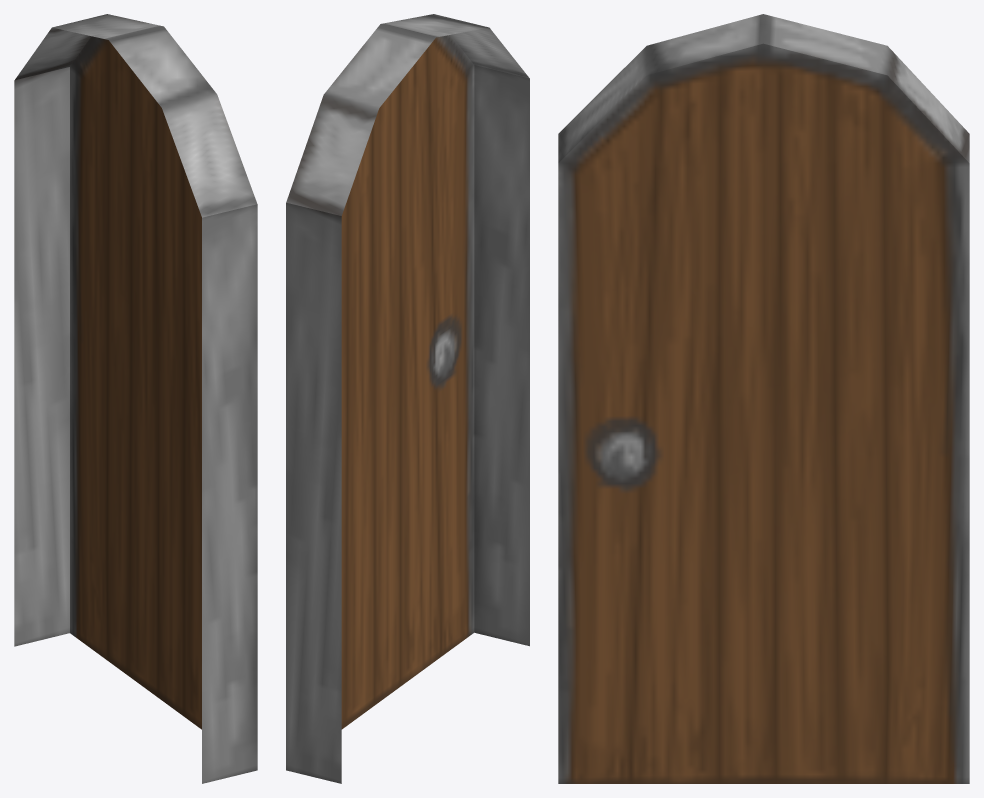
The model's file is Gate.fbx.
3 views of the same model, side by side, from view 1: azimuth 30°, elevation 25°; view 2: azimuth 150°, elevation 25°; view 3: azimuth 270°, elevation 25° (orthographic). The views are drawn at different scales.
Parts seen in each view (by area): view 1: pCube1; view 2: pCube1; view 3: pCube1.
Part boxes in pixels (x1,y1,x2,y2): pCube1: [14, 14, 257, 783]; pCube1: [286, 14, 529, 783]; pCube1: [558, 14, 969, 783].
Size of the model in its own units: 0.3976 by 4.63 by 2.33.
